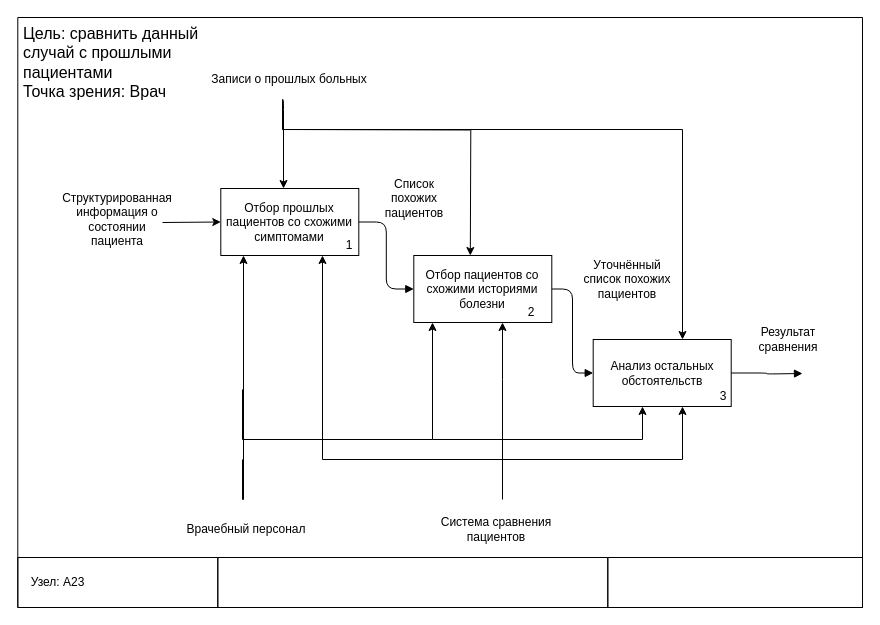
The diagram is 880 pixels wide and 625 high, and some of its shapes have lost their labels. Each missing label, with the centre of its shape:
Название: Сравнение с прошлыми случаями: (412,582)
Номер: 6: (734,582)
